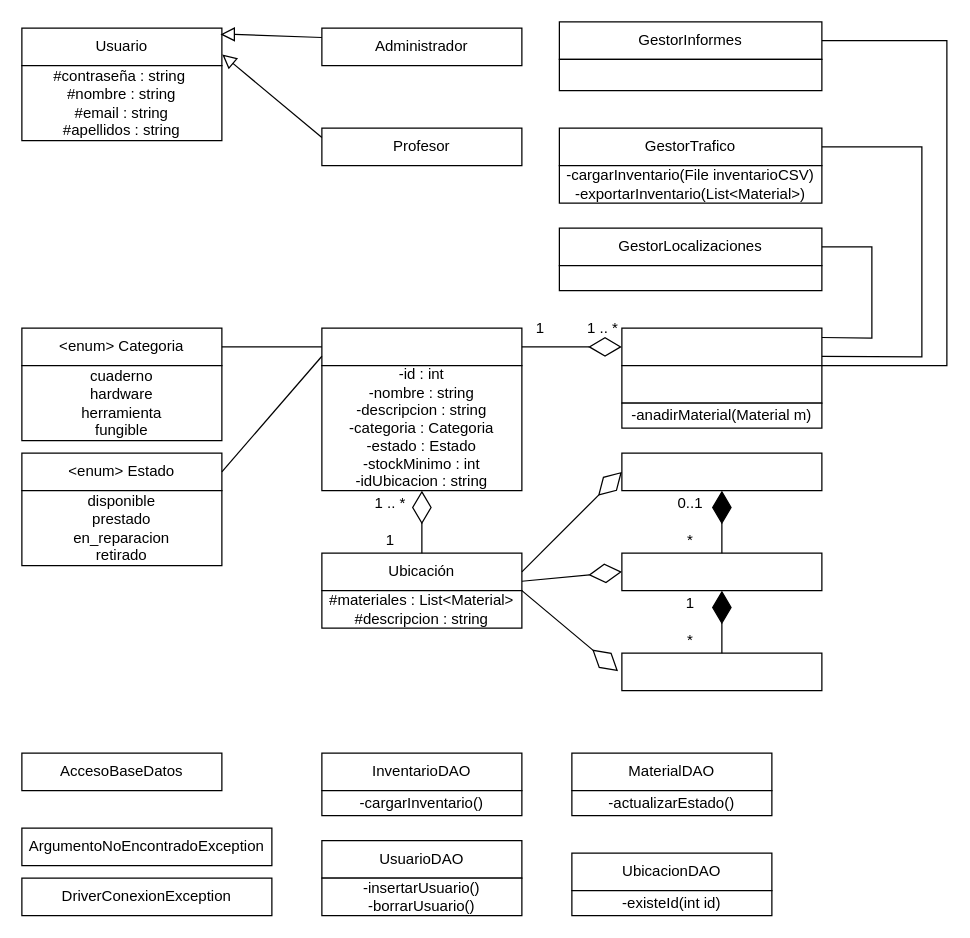
Image size: 970x938. Some labels were removed from this diagram. The shapes that lost their labels are listed below. From the top down, each one's centre as x and y in pixels, then its label:
At (x=690, y=74): "-exportarInforme(List<Material>)".
At (x=690, y=277): "-mostrarUbicacionWeb(String id)".
At (x=421, y=346): "Material".
At (x=721, y=346): "Inventario".
At (x=721, y=383): "-materiales : ArrayList<Material>".
At (x=721, y=471): "Armario".
At (x=721, y=571): "Balda".
At (x=721, y=671): "Cajon".
